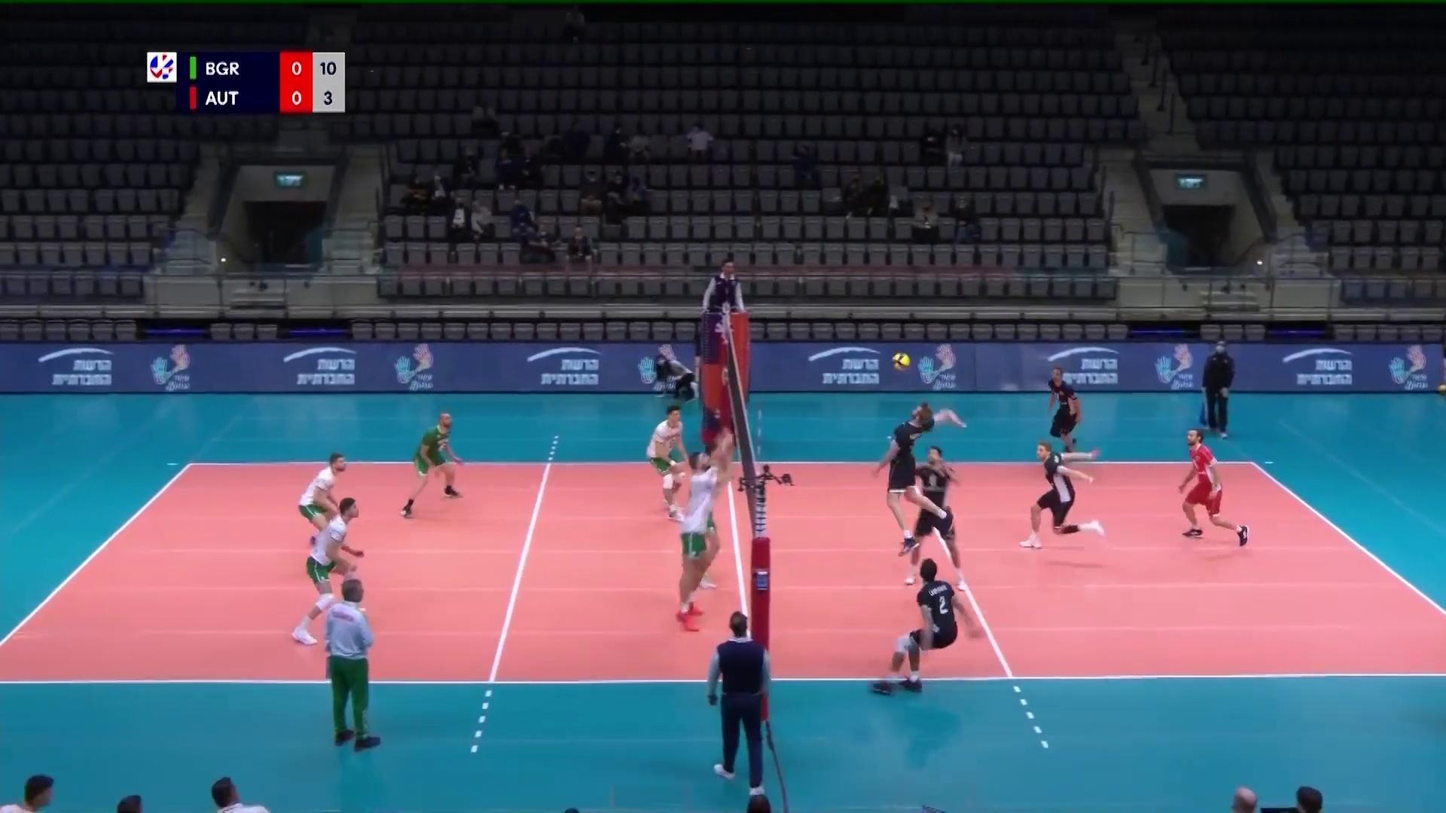ball: (892, 352, 909, 372)
